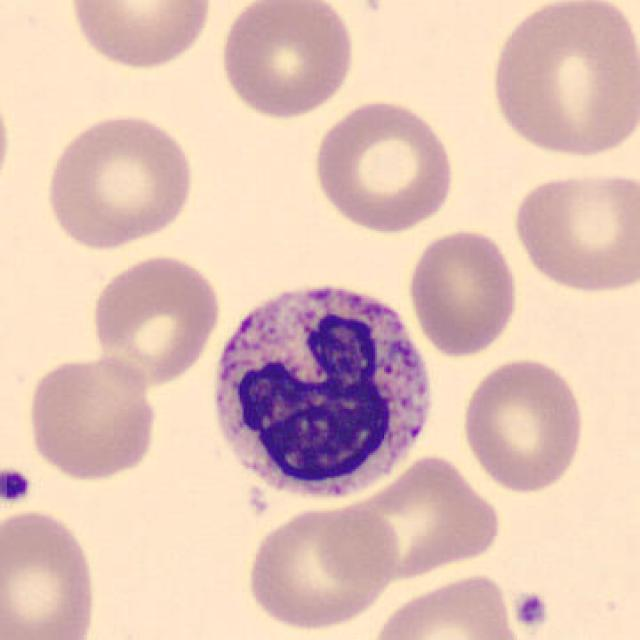neutrophil: (218, 280, 432, 498)
platelets: (513, 577, 555, 640), (0, 462, 33, 510)
rbc: (485, 0, 640, 167), (44, 99, 197, 244), (323, 460, 498, 586), (237, 509, 399, 625), (319, 96, 455, 234), (88, 256, 218, 392), (456, 358, 578, 494), (224, 0, 354, 114), (414, 224, 521, 359), (33, 361, 152, 480), (515, 178, 640, 289), (0, 510, 98, 640), (67, 0, 217, 80), (371, 576, 517, 640)
